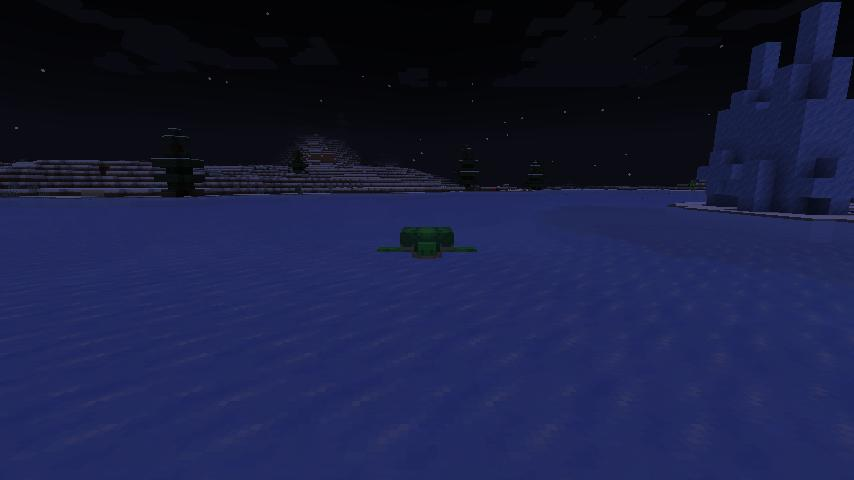turtle: (375, 221, 478, 266)
